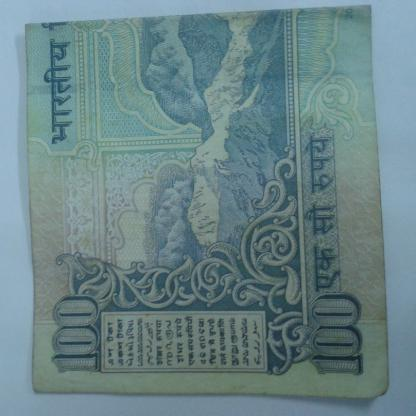Old100Back: (24, 2, 390, 400)
